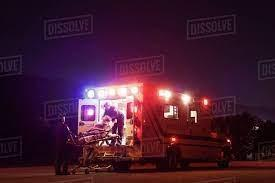AMBULANCE: (80, 85, 214, 111)
